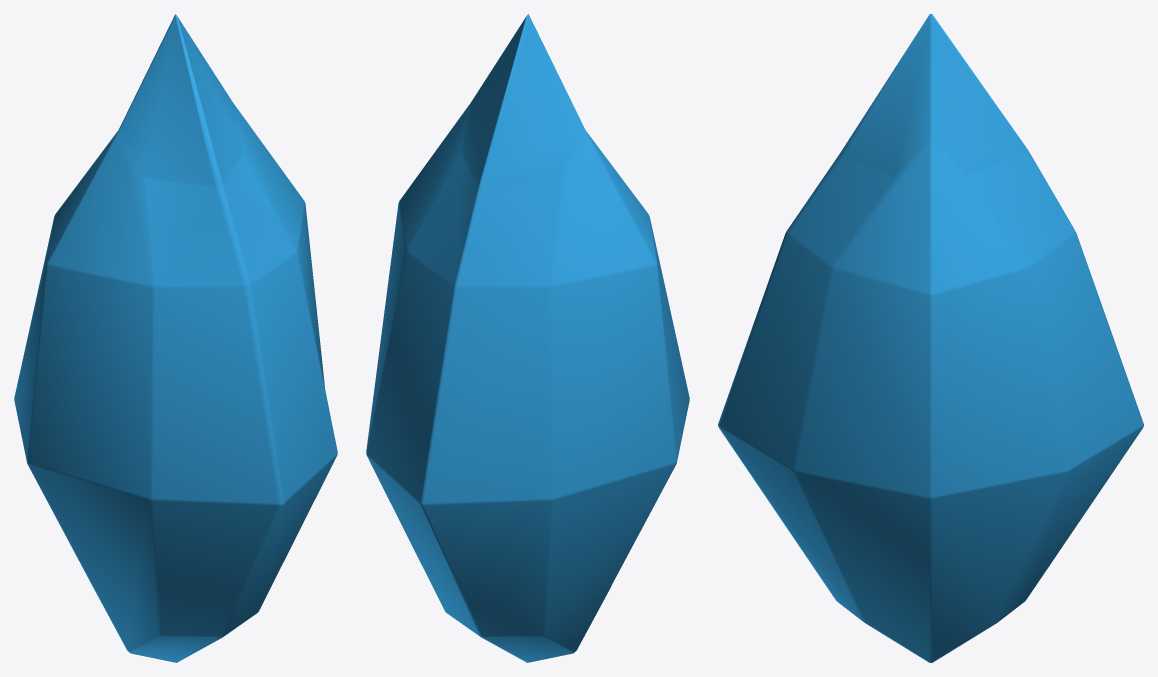
The model's file is Assignment 1 Persona Ice Persona.fbx.
3 renders of one model, left to right at view 1: azimuth 30°, elevation 25°; view 2: azimuth 150°, elevation 25°; view 3: azimuth 270°, elevation 25°, orthographic.
Parts seen in each view (by area): view 1: Ice Shard Low Poly; view 2: Ice Shard Low Poly; view 3: Ice Shard Low Poly.
Boxes of the visible parts, x1,y1,x2,y2 form: Ice Shard Low Poly: [14, 14, 337, 662]; Ice Shard Low Poly: [366, 14, 689, 662]; Ice Shard Low Poly: [718, 14, 1143, 662].
Size of the model in its own units: 56.81 by 118 by 70.65.
